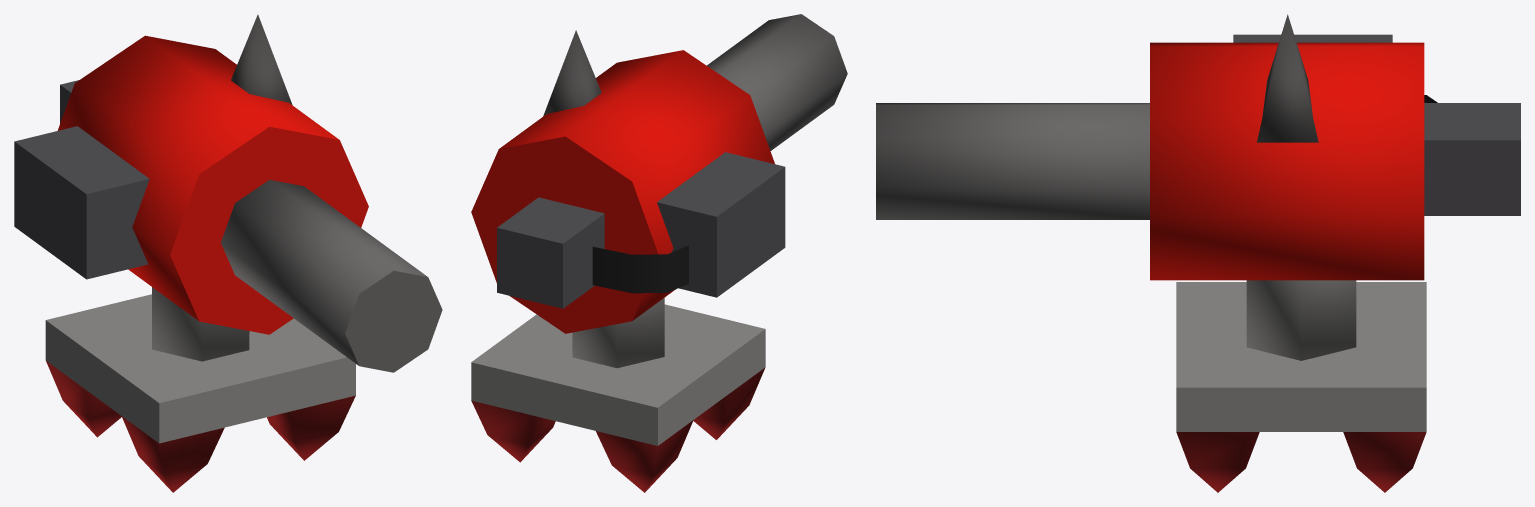
The model's file is sentry.glb.
3 renders of one model, left to right at view 1: azimuth 30°, elevation 25°; view 2: azimuth 150°, elevation 25°; view 3: azimuth 270°, elevation 25°, orthographic. The views are drawn at different scales.
Visible parts, largest first — view 1: sentry_head, sentry_base; view 2: sentry_head, sentry_base; view 3: sentry_head, sentry_base.
Part boxes in pixels (left/top/right/bottom): sentry_head: left=14, top=14, right=442, bottom=372; sentry_base: left=45, top=287, right=355, bottom=492; sentry_head: left=471, top=14, right=847, bottom=333; sentry_base: left=471, top=298, right=765, bottom=492; sentry_head: left=876, top=14, right=1520, bottom=280; sentry_base: left=1176, top=280, right=1426, bottom=492.
Bounding box in the file's own units: 3.07 × 5.12 × 6.35.
